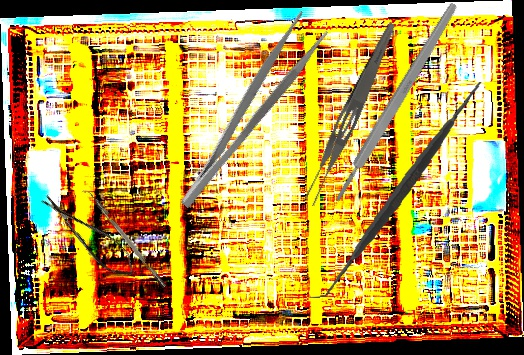Chopper: (80, 185, 167, 293)
Dressing Forceps: (161, 10, 332, 212), (299, 18, 400, 209)
Micro Scissor: (37, 185, 141, 285)
Scalpel Handle: (330, 1, 461, 204)
Spatula Surgical: (292, 80, 512, 299)
